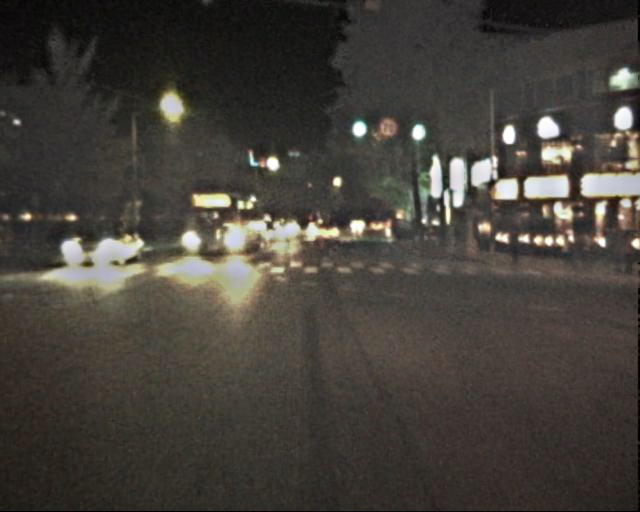person: (596, 227, 627, 275), (559, 228, 581, 267), (507, 224, 524, 265)
